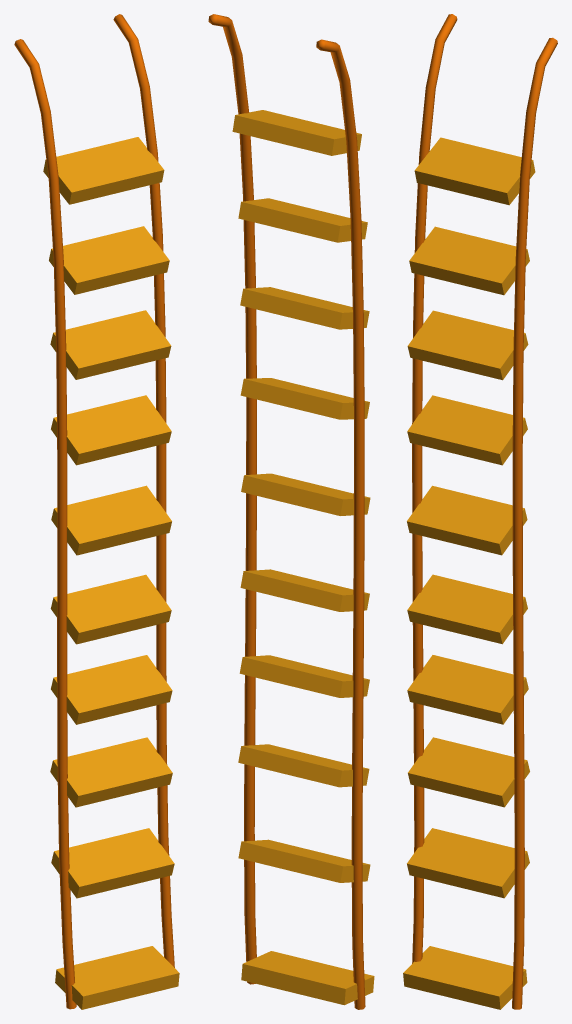
Rendered from EscaleraMano.fbx.
3 views of the same model, side by side, from view 1: azimuth 30°, elevation 25°; view 2: azimuth 150°, elevation 25°; view 3: azimuth 330°, elevation 25° (orthographic). The views are drawn at different scales.
Parts seen in each view (by area): view 1: Escalera.001; view 2: Escalera.001; view 3: Escalera.001.
Boxes of the visible parts, x1,y1,x2,y2 form: Escalera.001: (14, 14, 179, 1009); Escalera.001: (208, 14, 374, 1009); Escalera.001: (403, 14, 557, 1009).
Bounding box in the file's own units: 151 × 1165 × 134.
